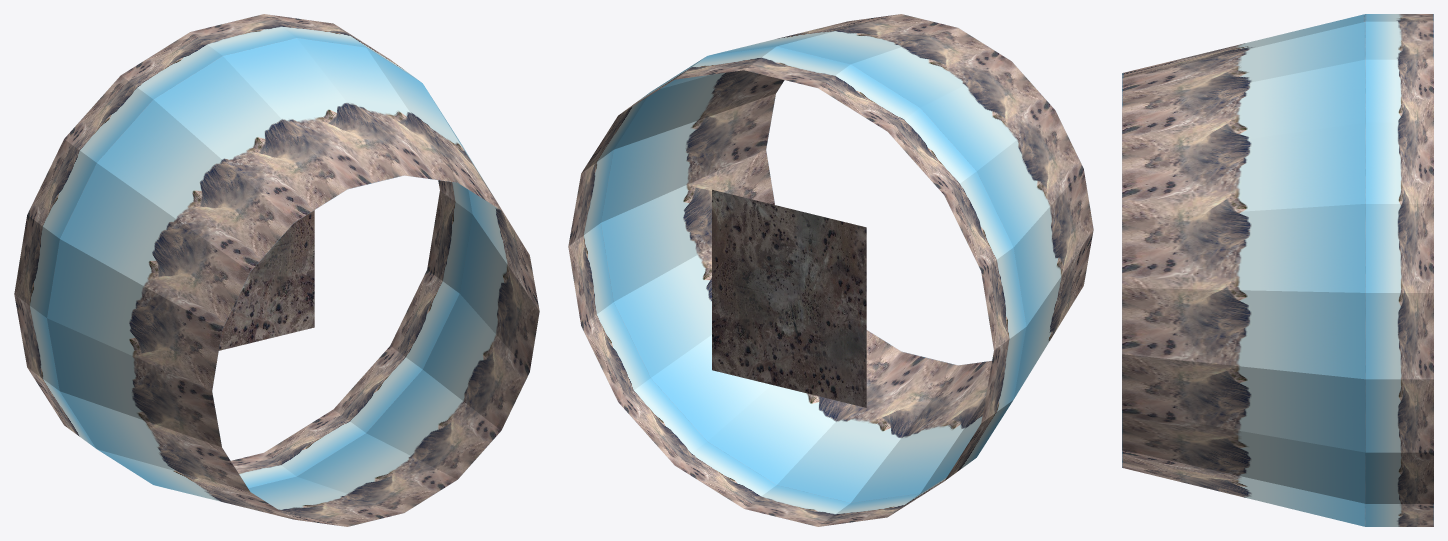
File: RT_URBANSCENESource_wtf.obj
The picture shows the model from 3 angles, left to right: view 1: azimuth 30°, elevation 25°; view 2: azimuth 150°, elevation 25°; view 3: azimuth 270°, elevation 25°; orthographic projection. The views are drawn at different scales.
Visible parts, largest first — view 1: group323, group322; view 2: group323, group322; view 3: group323.
Part boxes in pixels (box(x1,y1,x2,y2)): group323: box(14, 14, 539, 526); group322: box(219, 210, 314, 350); group323: box(568, 14, 1093, 526); group322: box(712, 189, 866, 407); group323: box(1122, 14, 1433, 526).
Size of the model in its own units: 660 by 650 by 400.
